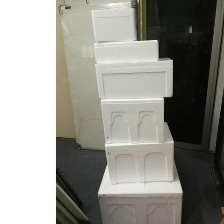foam_box: (95, 159, 186, 224), (101, 117, 178, 186), (92, 54, 177, 101), (97, 95, 169, 146), (90, 37, 162, 66), (89, 5, 140, 45)
